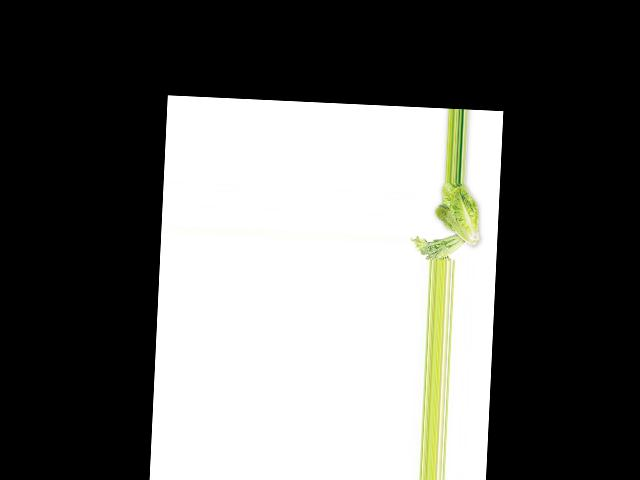lettuce: (428, 181, 480, 250)
